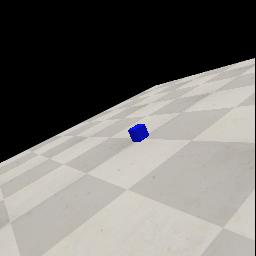box: (128, 124, 149, 142)
